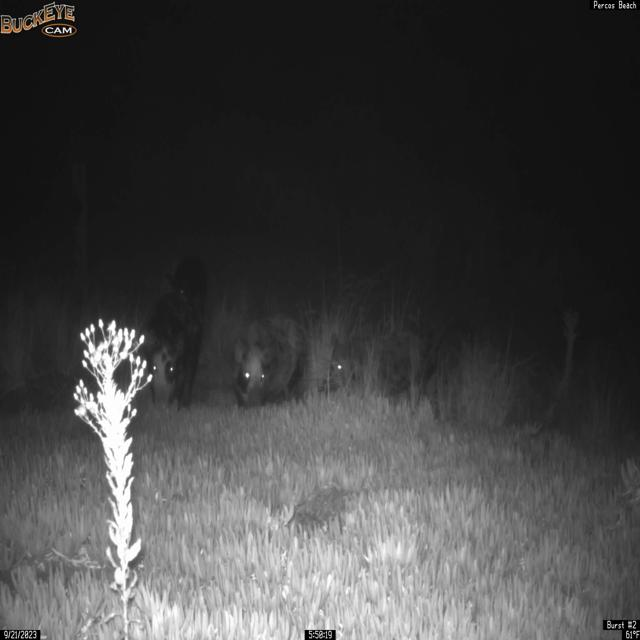pig: (232, 312, 307, 409)
